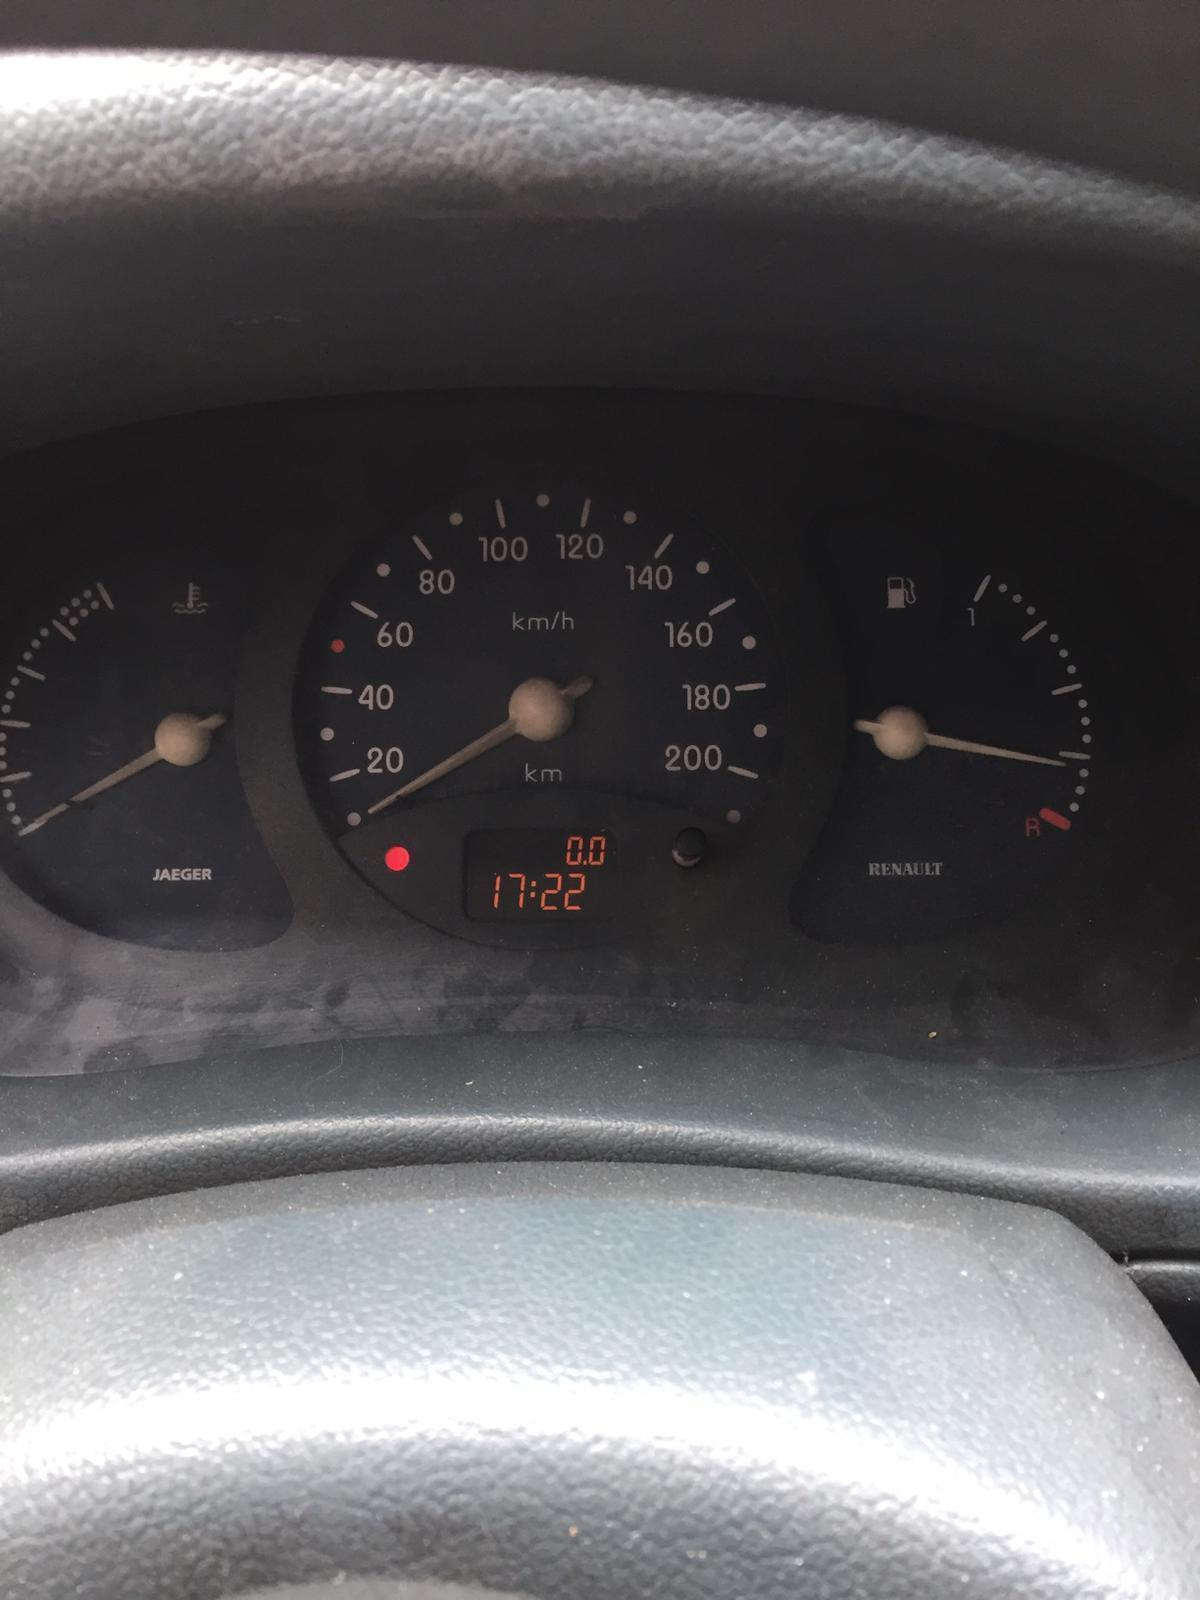,: (582, 859, 587, 866)
0: (587, 835, 606, 866), (565, 835, 584, 866)
1: (492, 874, 500, 910)
2: (563, 872, 586, 910), (539, 872, 562, 910)
7: (507, 872, 526, 910)
X: (529, 879, 537, 898)
odometer: (458, 824, 624, 926)
